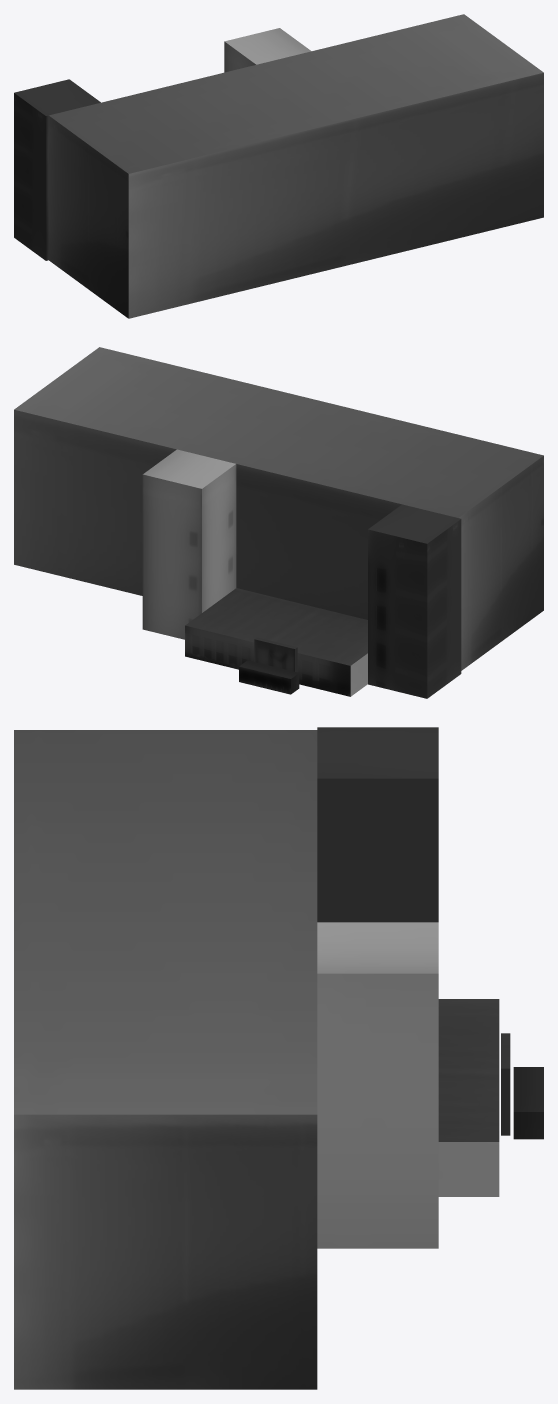
Rendered from ZMOAN.fbx.
3 renders of one model, top to bottom at view 1: azimuth 30°, elevation 25°; view 2: azimuth 150°, elevation 25°; view 3: azimuth 270°, elevation 25°, orthographic. The views are drawn at different scales.
Parts seen in each view (by area): view 1: Cube, Cube.004, Cube.003; view 2: Cube, Cube.004, Cube.003, Cube.001, Cube.005, Cube.002; view 3: Cube, Cube.003, Cube.004, Cube.001, Cube.005, Cube.002.
Boxes of the visible parts, x1,y1,x2,y2 form: Cube: (48, 14, 543, 318); Cube.004: (14, 79, 100, 260); Cube.003: (224, 28, 311, 72); Cube: (14, 347, 543, 670); Cube.004: (368, 504, 461, 698); Cube.003: (142, 449, 236, 639); Cube.001: (185, 588, 367, 696); Cube.005: (239, 660, 299, 694); Cube.002: (254, 637, 297, 672); Cube: (14, 730, 317, 1389); Cube.003: (317, 922, 438, 1248); Cube.004: (317, 727, 438, 922); Cube.001: (438, 999, 499, 1196); Cube.005: (513, 1067, 543, 1139); Cube.002: (501, 1033, 510, 1135).
Size of the model in its own units: 1747 by 3020 by 1004.
6 materials, 6 textured.
